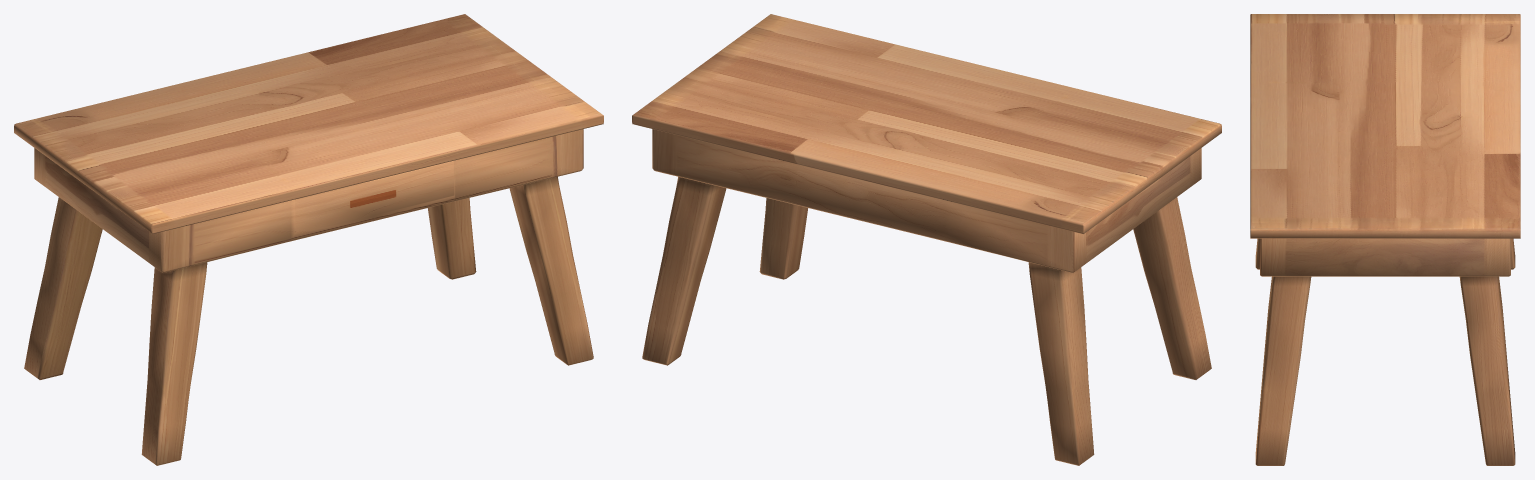
File: Meshy_AI_A_stylized_low_poly_d_0428231137_texture.fbx
3 views of the same model, side by side, from view 1: azimuth 30°, elevation 25°; view 2: azimuth 150°, elevation 25°; view 3: azimuth 270°, elevation 25° (orthographic). The views are drawn at different scales.
Parts seen in each view (by area): view 1: Mesh_0; view 2: Mesh_0; view 3: Mesh_0.
Boxes of the visible parts, bbox=[...] form: Mesh_0: bbox=[14, 14, 603, 465]; Mesh_0: bbox=[632, 14, 1221, 465]; Mesh_0: bbox=[1250, 14, 1520, 465].
Size of the model in its own units: 191 by 99.02 by 101.
1 material, 1 textured.
